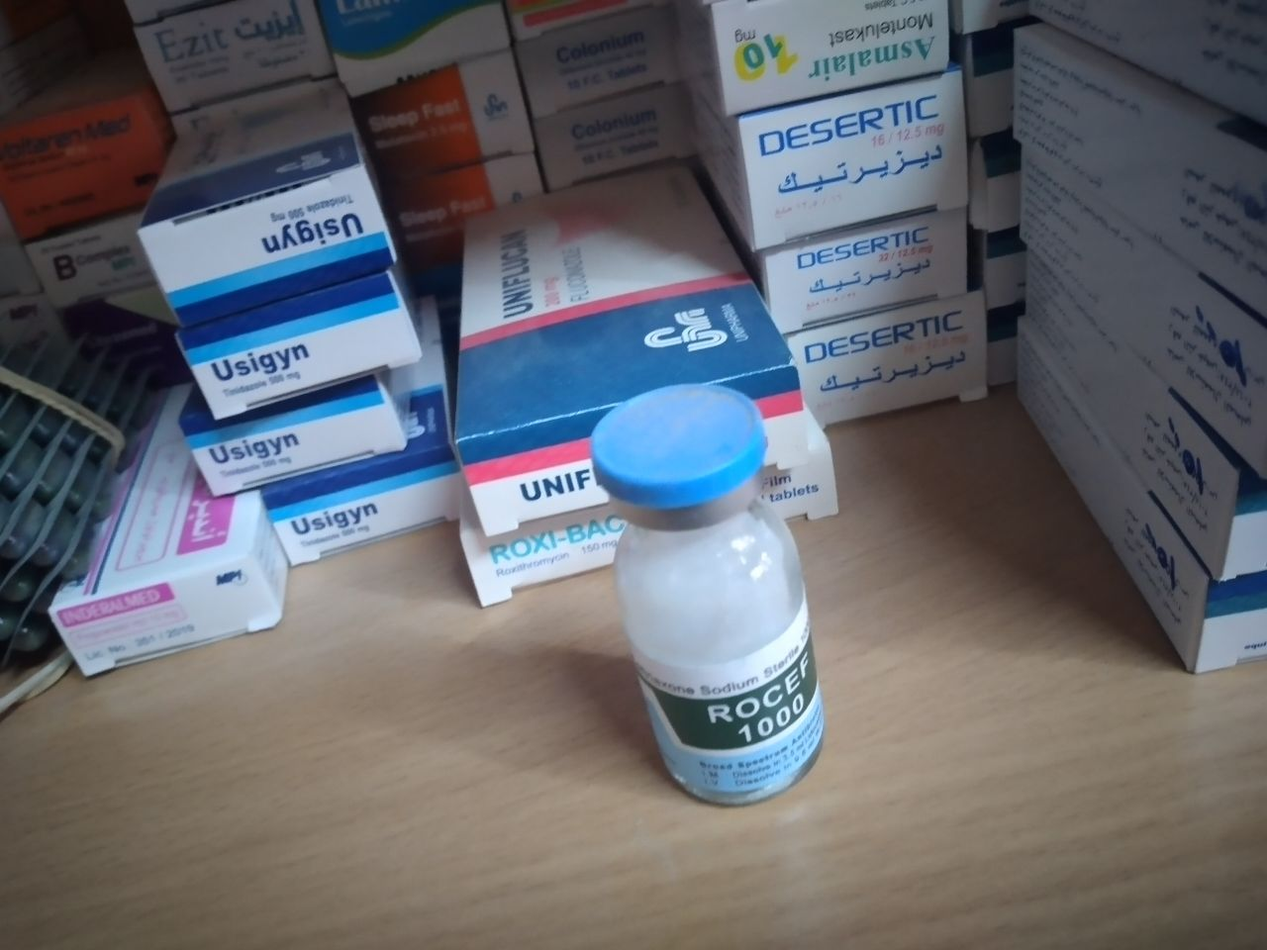Medicine: (574, 369, 869, 811), (445, 200, 809, 512), (1012, 265, 1267, 698), (1000, 30, 1267, 314), (1002, 228, 1267, 497), (1020, 163, 1267, 430), (0, 99, 213, 359), (720, 67, 982, 213), (134, 181, 431, 307), (351, 79, 539, 245), (747, 215, 970, 329), (153, 312, 470, 391), (782, 319, 1007, 418), (119, 0, 332, 101)
